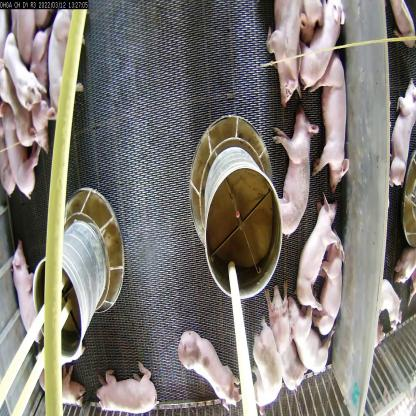Pig: (180, 329, 234, 414), (276, 108, 310, 240), (44, 11, 84, 113), (298, 189, 332, 308), (298, 0, 342, 87), (266, 0, 305, 91), (320, 56, 348, 178), (289, 290, 331, 367), (6, 108, 38, 202), (12, 242, 42, 340), (3, 34, 40, 112), (99, 366, 156, 416), (267, 291, 300, 370), (242, 324, 277, 396), (320, 255, 346, 335)
